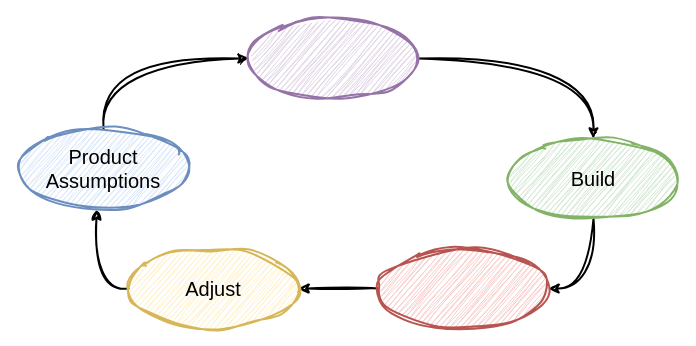
The diagram is 696 pixels wide and 346 high, and some of its shapes have lost their labels. The shapes that lost their labels are listed below. From the top down, each one's centre as x and y in pixels, then its label:
At point (333, 58): "Define Requirements".
At point (463, 288): "Measure Impact".
